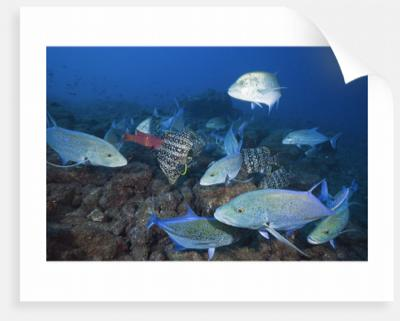Carangidae -Jacks-: (214, 176, 350, 239), (143, 194, 239, 253), (47, 114, 131, 170), (227, 68, 292, 114), (196, 143, 254, 183)
